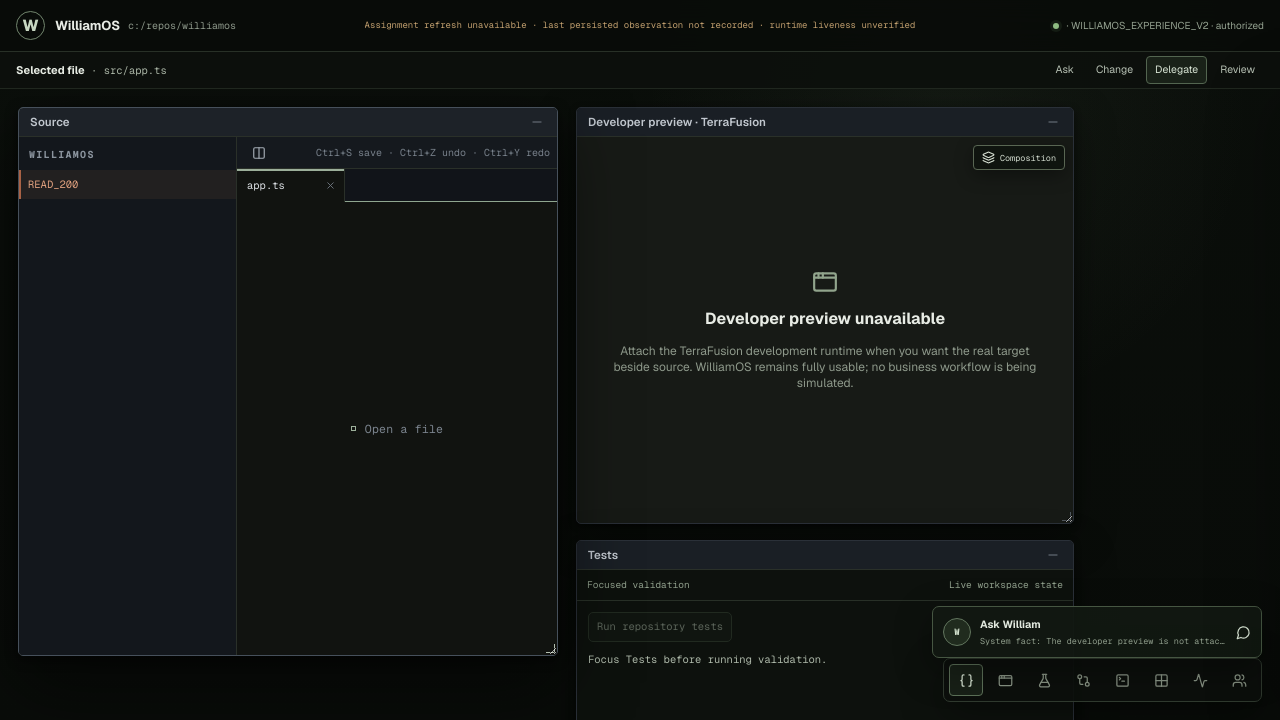
Test: Experience V2 exact selected-file Delegate › offers only server-proven providers and persists an exact Claude file target
Click the button "Delegate".
click(1177, 70)  # box [1146,56,1207,84]
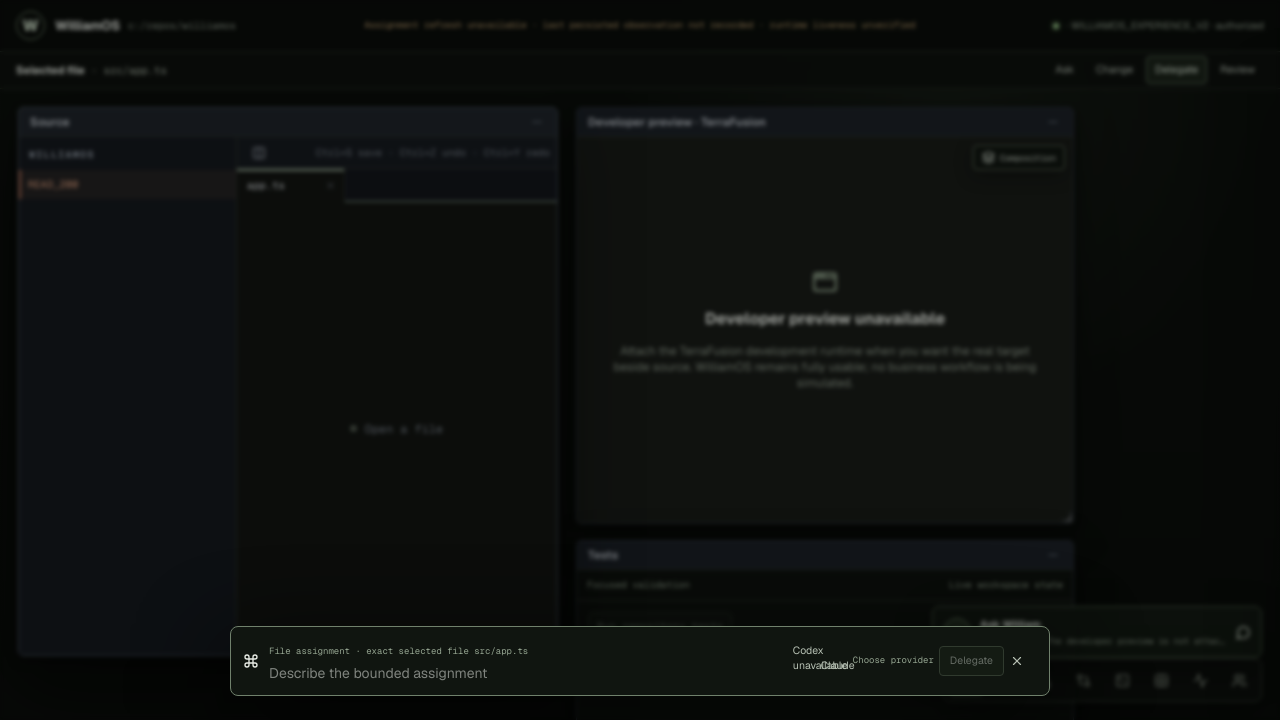
Expected: the text "File assignment · exact selected file src/app.ts" is shown, [269,645,528,657]
Expected: the button "Codex unavailable" is disabled, [792,642,820,670]
Click the button "Claude".
click(834, 666)  # box [820,652,848,680]
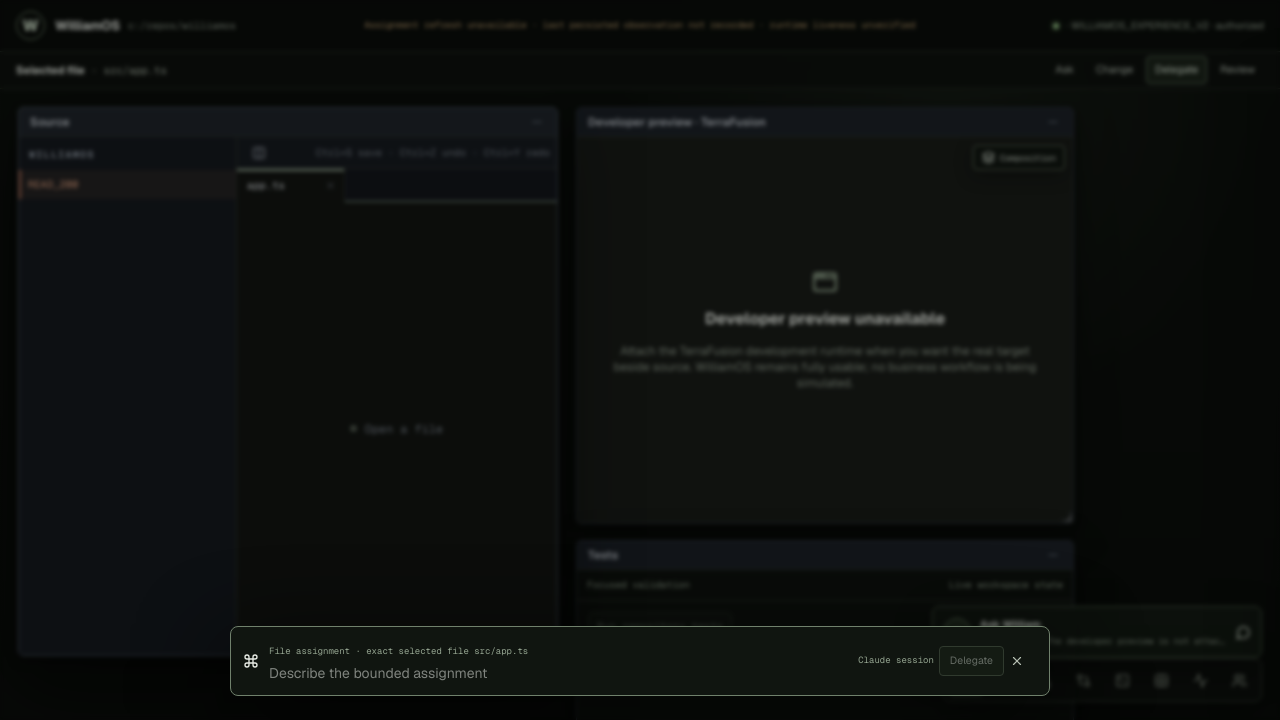
Type "Implement this exact file change." into the field named "The Line".
click(559, 674); type("Implement this exact file change.")  # box [269,663,848,684]
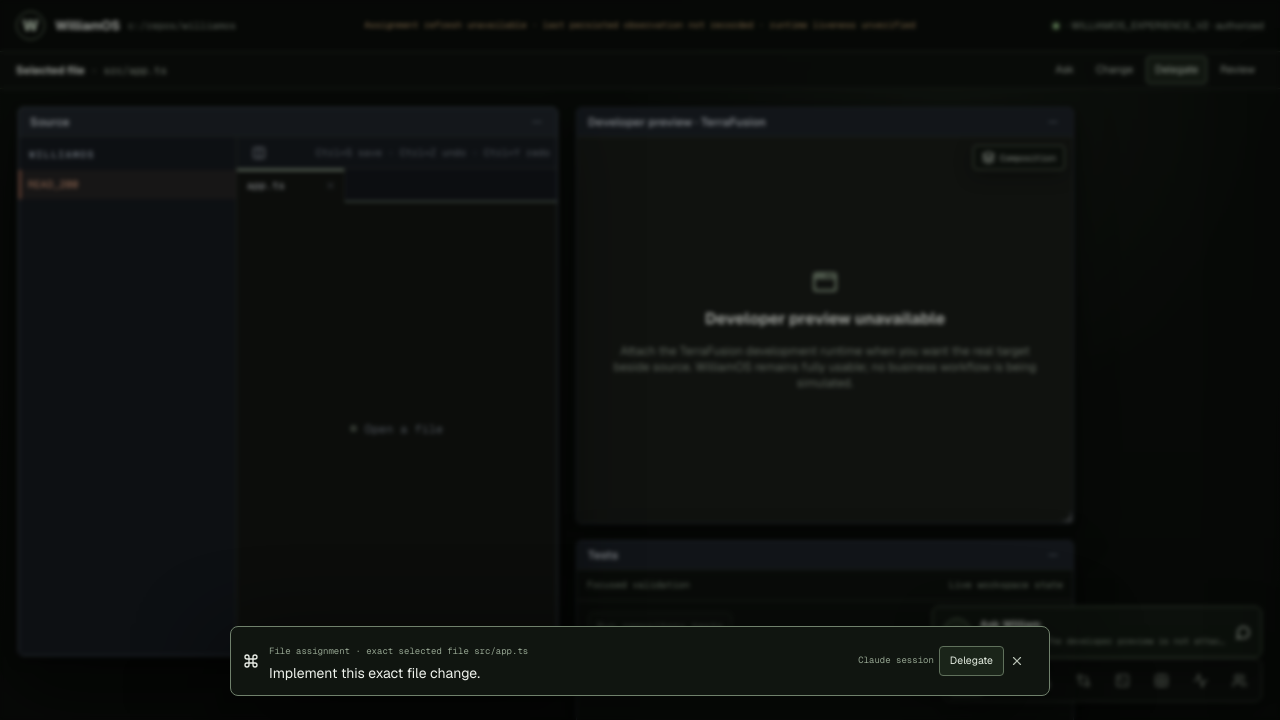
Click the button "Delegate".
click(971, 661)  # box [939,646,1004,676]
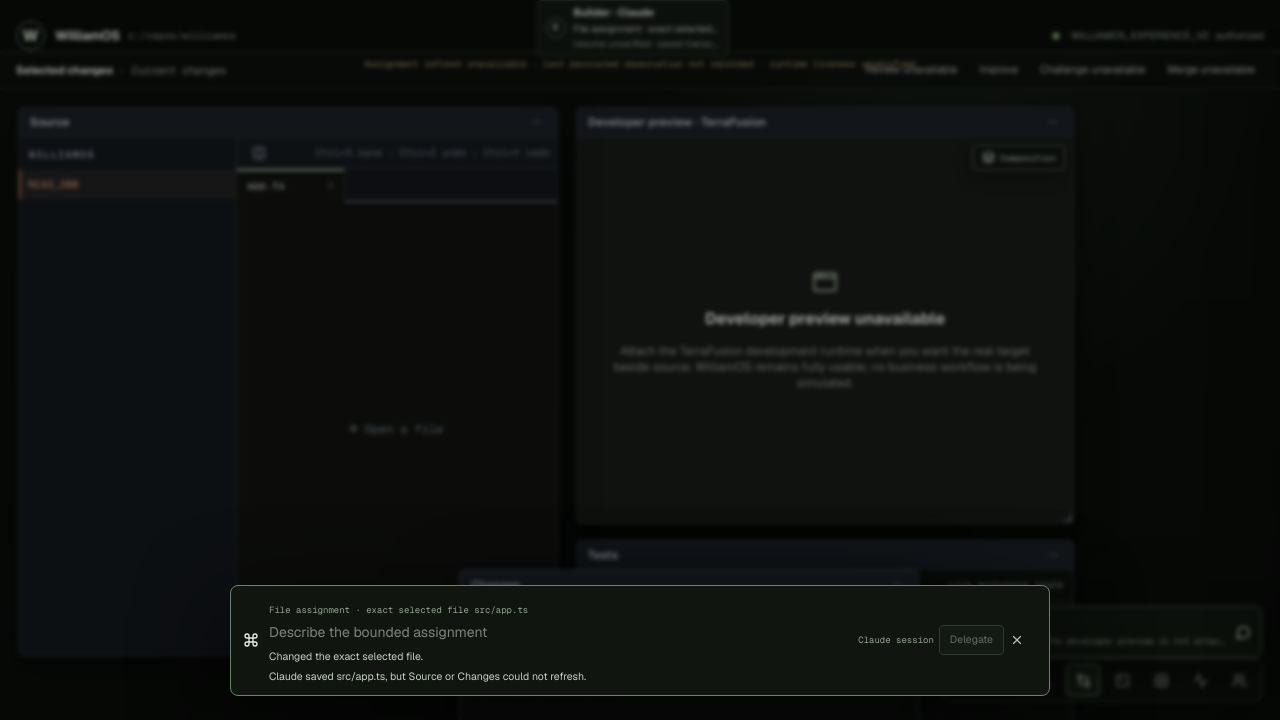
Expected: the text "Changed the exact selected file." is shown, [269,648,423,662]
